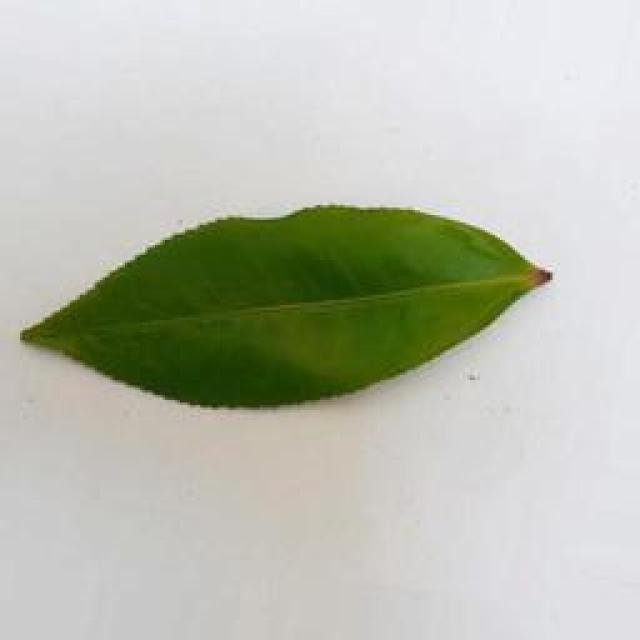Healthy: (22, 201, 566, 415)
